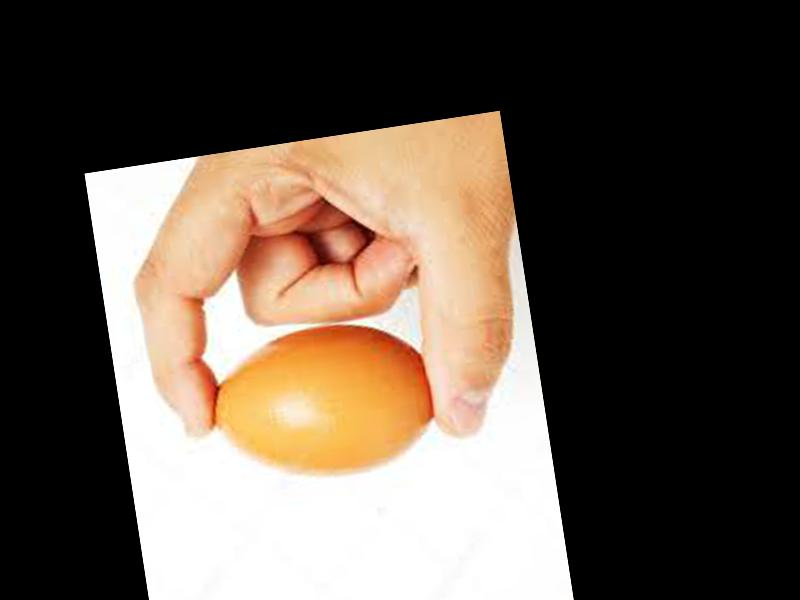Eggs: (198, 310, 441, 495)
